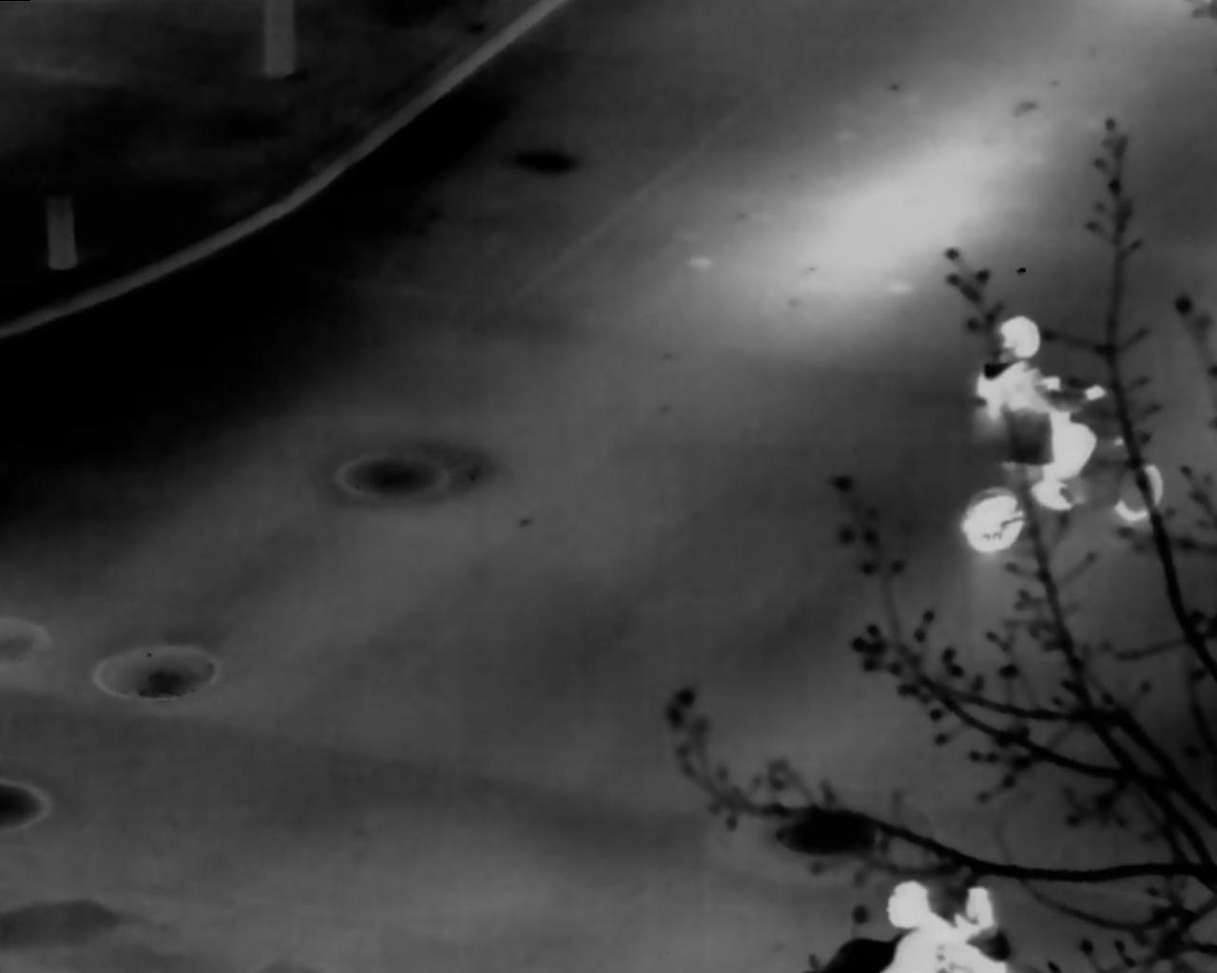person: (976, 313, 1108, 513), (880, 881, 1009, 973)
